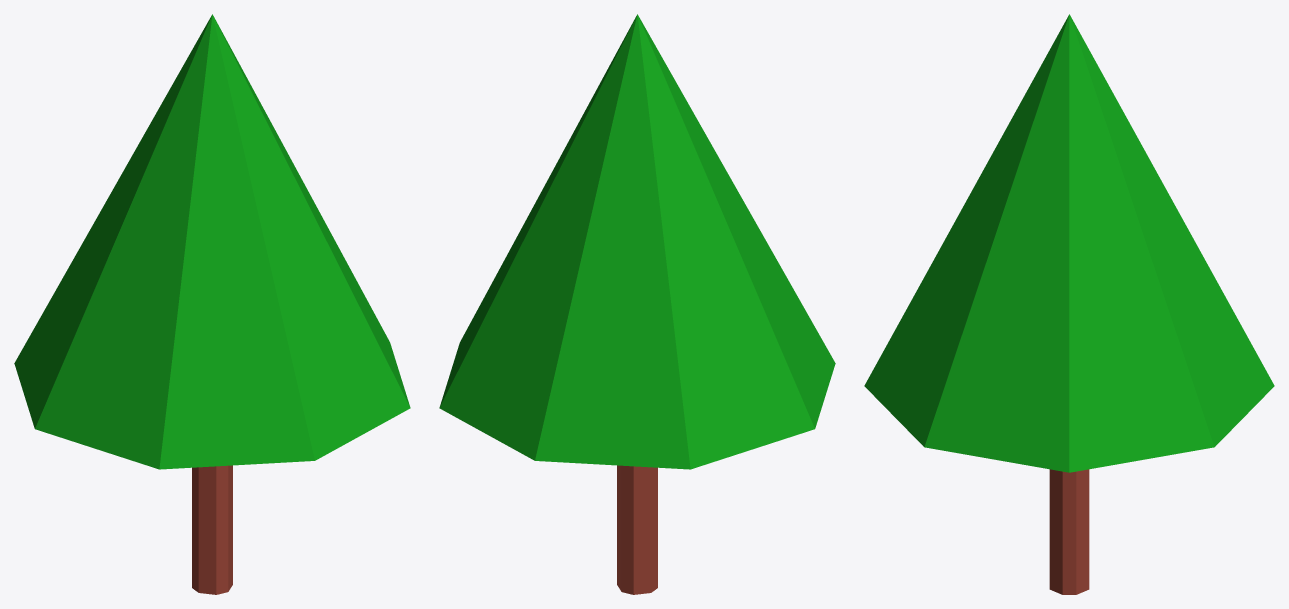
File: pine tree 2.fbx
The picture shows the model from 3 angles, left to right: view 1: azimuth 30°, elevation 25°; view 2: azimuth 150°, elevation 25°; view 3: azimuth 270°, elevation 25°; orthographic projection.
Visible parts, largest first — view 1: Cone.005, Cube; view 2: Cone.005, Cube; view 3: Cone.005, Cube.
Part boxes in pixels (bbox=[...]): Cone.005: bbox=[14, 14, 410, 469]; Cube: bbox=[192, 465, 232, 594]; Cone.005: bbox=[439, 14, 835, 469]; Cube: bbox=[617, 465, 657, 594]; Cone.005: bbox=[864, 14, 1274, 472]; Cube: bbox=[1049, 469, 1089, 594].
Bounding box in the file's own units: 200 × 307 × 200.
